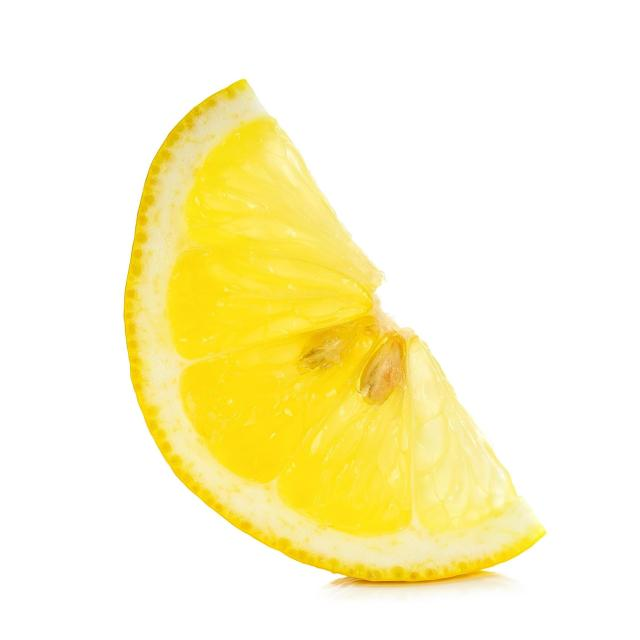lemon: (114, 66, 550, 591)
